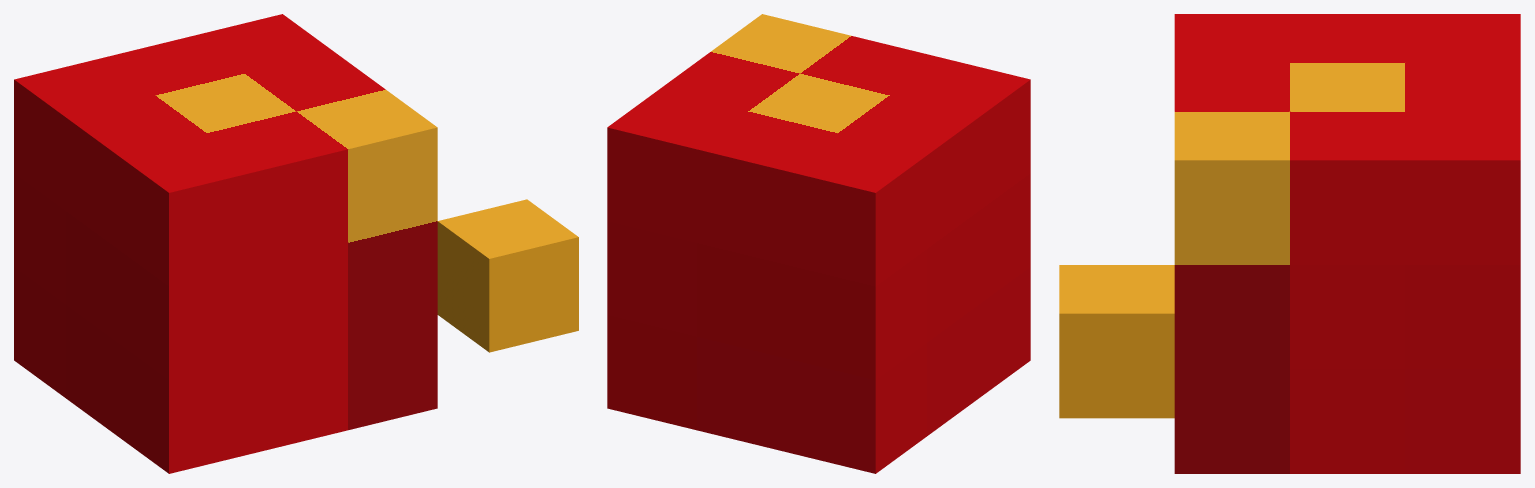
The model's file is tiny_chapeauao.fezao.glb.
3 views of the same model, side by side, from view 1: azimuth 30°, elevation 25°; view 2: azimuth 150°, elevation 25°; view 3: azimuth 270°, elevation 25° (orthographic). The views are drawn at different scales.
Visible parts, largest first — view 1: TINY_CHAPEAUAO; view 2: TINY_CHAPEAUAO; view 3: TINY_CHAPEAUAO.
Part boxes in pixels (x1,y1,x2,y2): TINY_CHAPEAUAO: [14, 14, 578, 473]; TINY_CHAPEAUAO: [607, 14, 1030, 473]; TINY_CHAPEAUAO: [1059, 14, 1520, 473].
Bounding box in the file's own units: 0.25 × 0.1875 × 0.25.
Materials: 1 (1 with a texture image).
